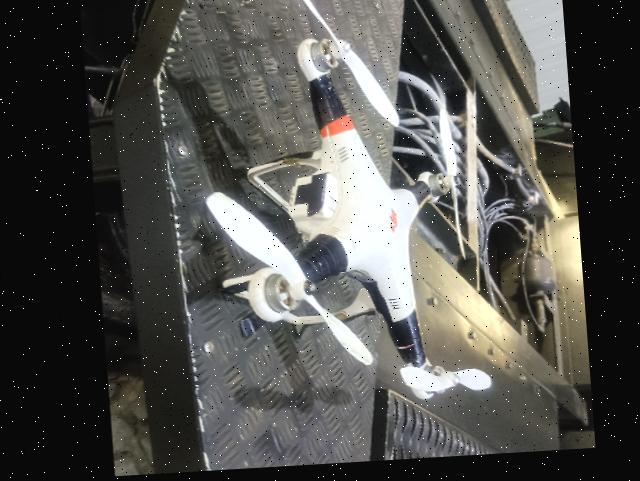drone: (176, 0, 510, 455)
